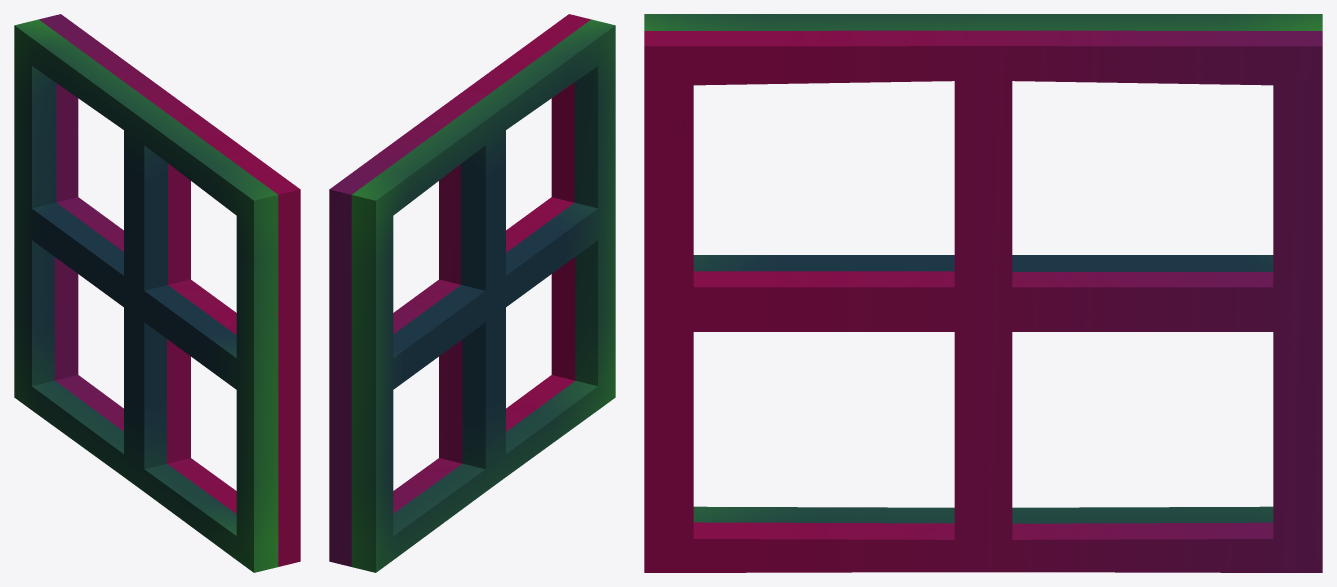
File: window_done1.fbx
The picture shows the model from 3 angles, left to right: view 1: azimuth 30°, elevation 25°; view 2: azimuth 150°, elevation 25°; view 3: azimuth 270°, elevation 25°; orthographic projection. The views are drawn at different scales.
Parts seen in each view (by area): view 1: pCube3; view 2: pCube3; view 3: pCube3.
Boxes of the visible parts, <box> form: pCube3: <box>14,14,300,572</box>; pCube3: <box>329,14,615,572</box>; pCube3: <box>644,14,1322,572</box>.
Bounding box in the file's own units: 1 × 7.64 × 8.92.
